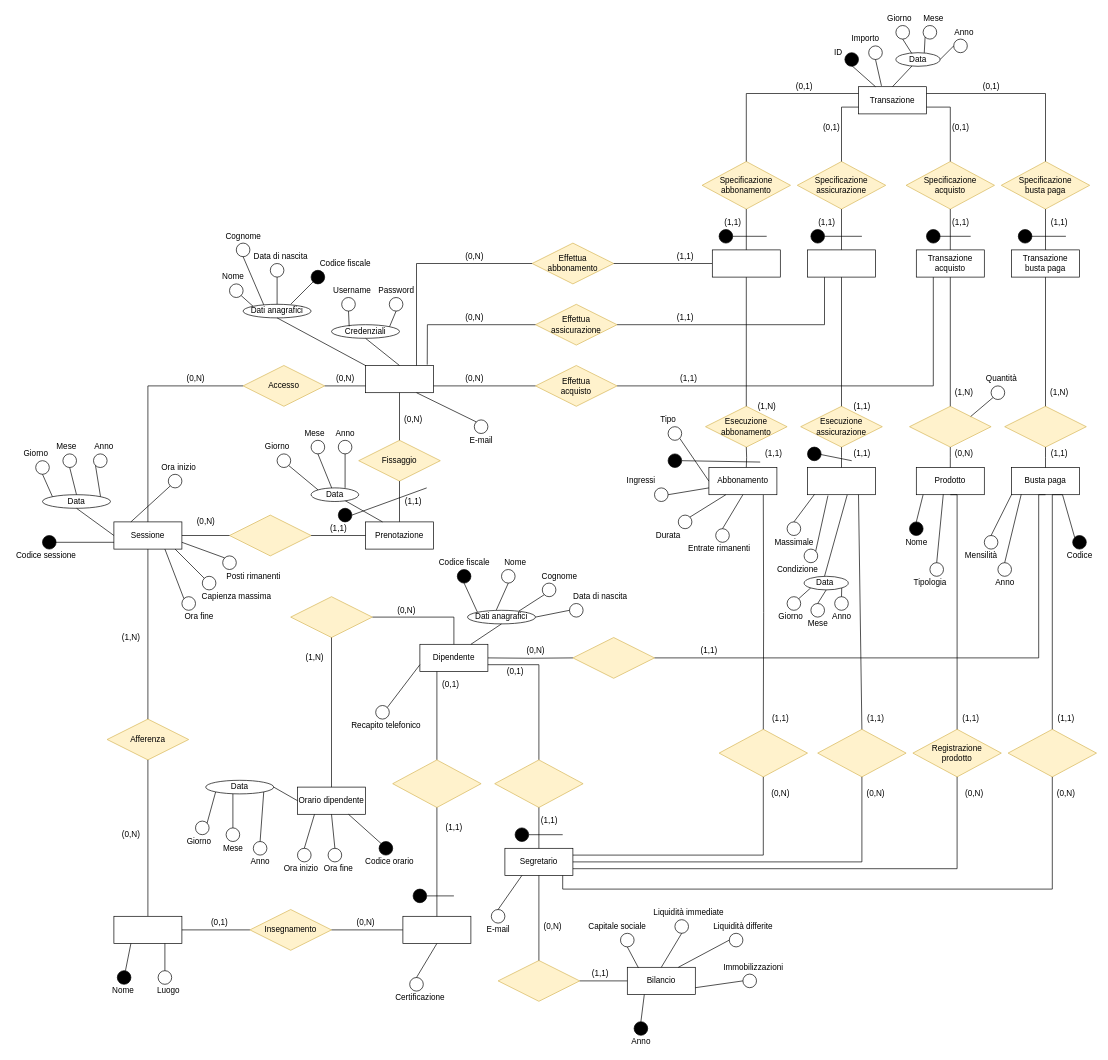
This 1108x1060 diagram has some shape labels left out. The centre of each missing label's shape, as x and y in pixels:
"Assicurazione" belongs at pixel 841 481.
"Compilazione" belongs at pixel 538 980.
"Corrispondenza" belongs at pixel 270 535.
"Corso" belongs at pixel 147 930.
"Esecuzione busta paga" belongs at pixel 1045 426.
"Esecuzione prodotto" belongs at pixel 950 426.
"Iscritto" belongs at pixel 399 379.
"Istruttore" belongs at pixel 436 930.
"Registrazione abbonamento" belongs at pixel 763 753.
"Registrazione assicurazione" belongs at pixel 861 753.
"Registrazione busta paga" belongs at pixel 1051 753.
"Riscossione" belongs at pixel 613 657.
"Specificazione istruttore" belongs at pixel 436 783.
"Specificazione segretario" belongs at pixel 538 783.
"Svolgimento" belongs at pixel 331 617.
"Transazione abbonamento" belongs at pixel 746 263.
"Transazione assicurazione" belongs at pixel 841 263.
